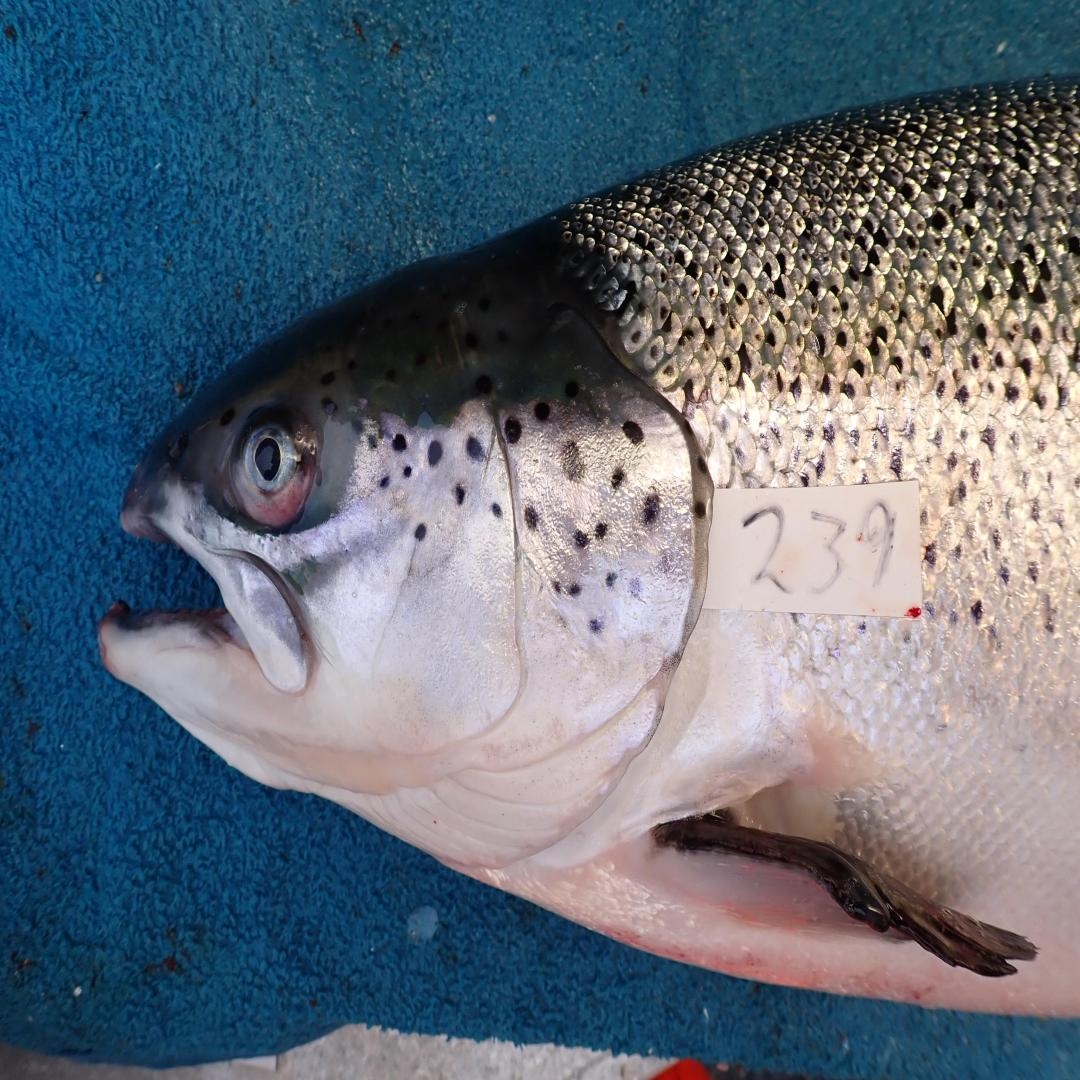spot: (559, 439, 586, 484), (650, 546, 681, 582), (641, 492, 660, 526), (622, 419, 643, 444), (504, 416, 521, 444), (466, 436, 485, 461), (428, 439, 443, 467), (593, 520, 610, 543), (523, 506, 540, 529), (534, 402, 551, 422), (612, 467, 626, 489), (392, 433, 407, 453), (574, 529, 589, 548), (565, 381, 579, 399), (629, 577, 641, 596), (454, 484, 466, 503), (696, 455, 708, 474), (605, 571, 618, 588), (567, 582, 582, 596), (589, 619, 603, 633), (694, 502, 706, 517), (377, 429, 393, 440), (416, 523, 426, 540), (491, 503, 502, 518), (367, 435, 377, 450), (378, 476, 390, 487), (552, 580, 561, 593), (403, 467, 411, 478)
